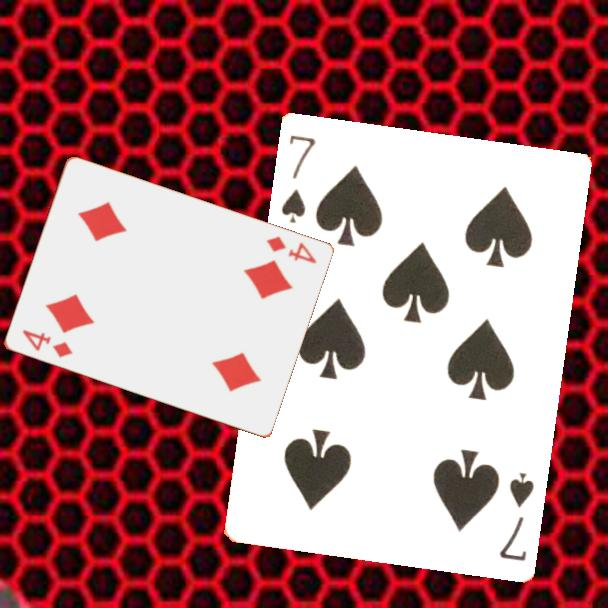d04: (18, 326, 75, 361), (262, 233, 319, 267)
s07: (495, 468, 537, 564), (277, 130, 318, 226)
